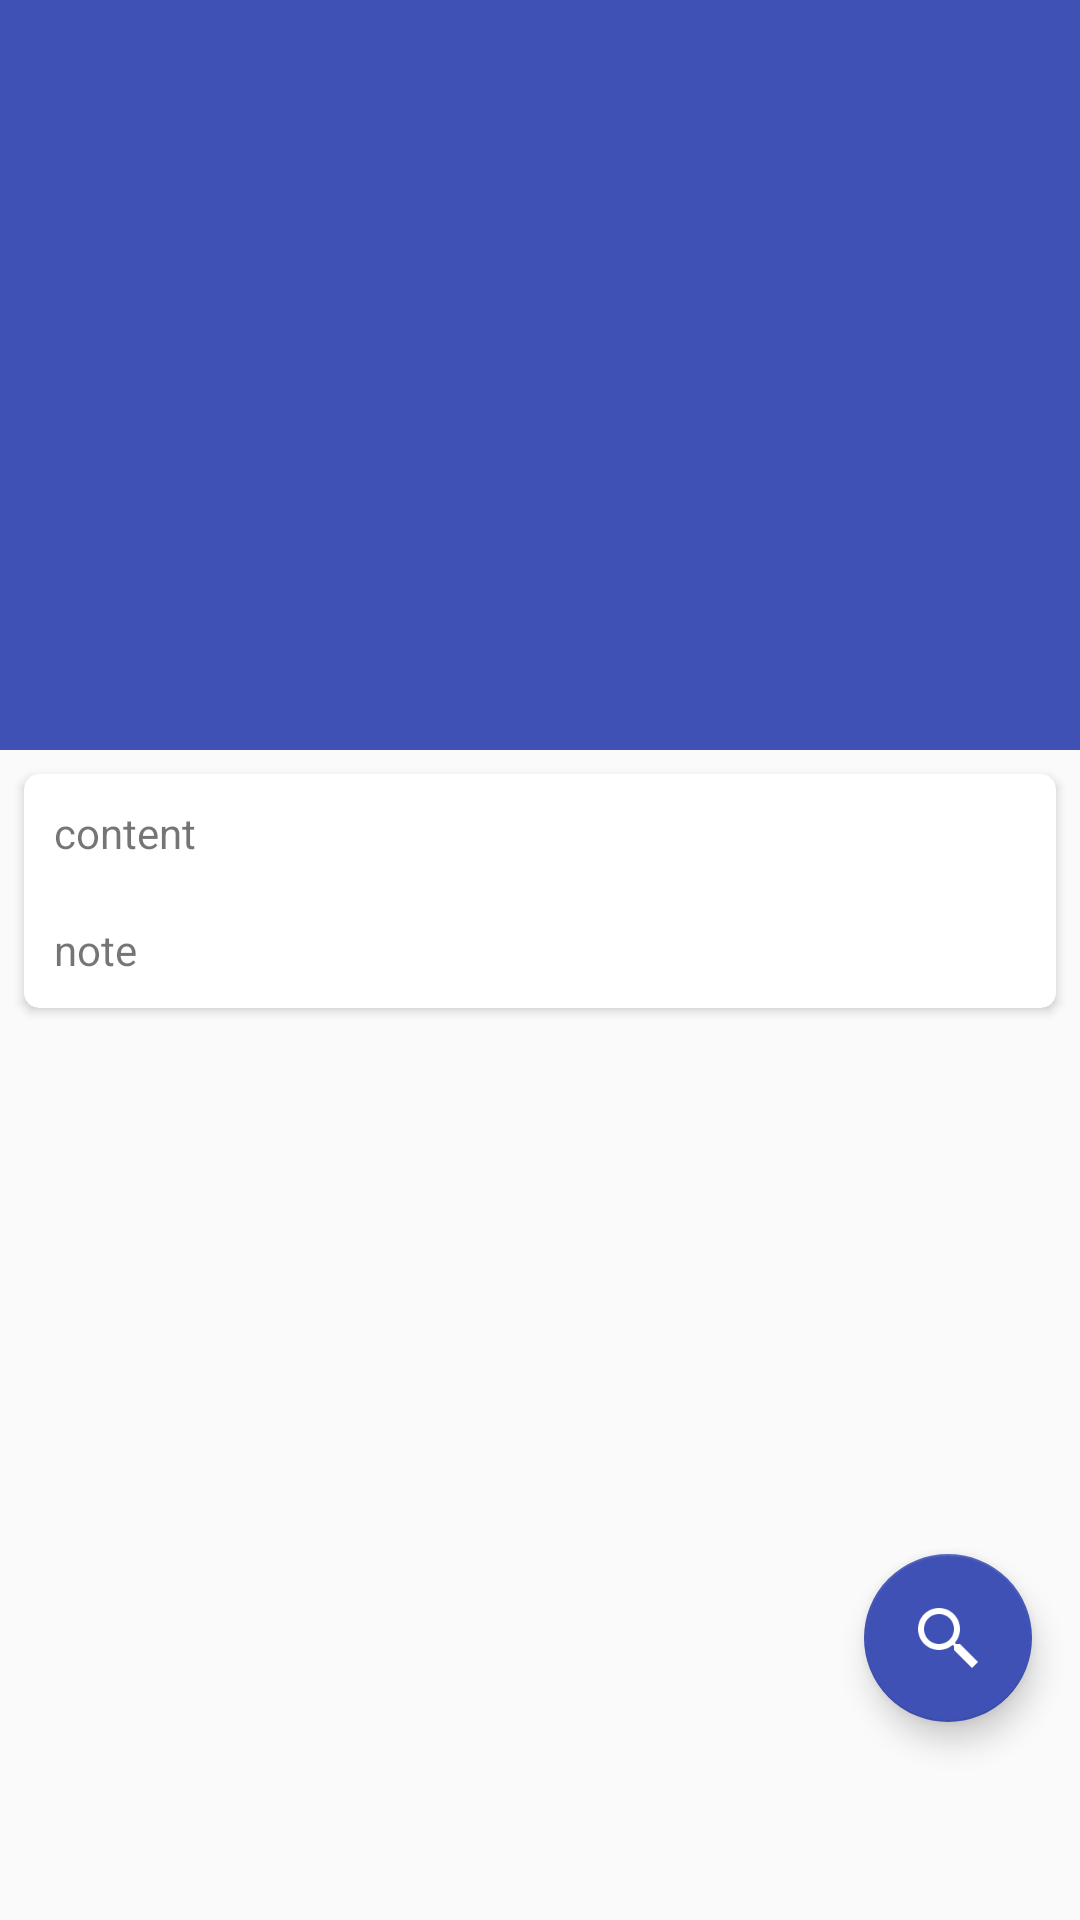

Named icons in this screenshot (1080 x 1920) and their centers, (x=x, y=y):
search: (x=948, y=1638)
